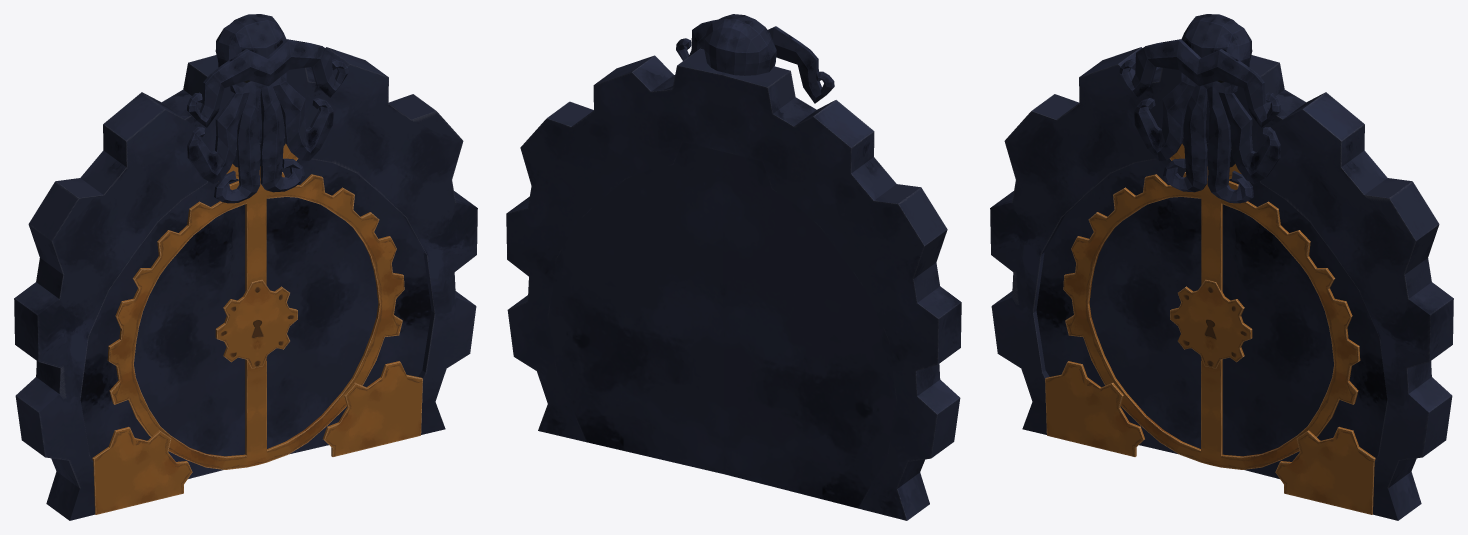
The model's file is Dungeon_Door_With_Textures.fbx.
3 views of the same model, side by side, from view 1: azimuth 30°, elevation 25°; view 2: azimuth 150°, elevation 25°; view 3: azimuth 330°, elevation 25° (orthographic).
Parts seen in each view (by area): view 1: Plane.001; view 2: Plane.001; view 3: Plane.001.
Boxes of the visible parts, x1=… form: Plane.001: x1=14, y1=14, x2=477, y2=520; Plane.001: x1=506, y1=14, x2=961, y2=520; Plane.001: x1=990, y1=14, x2=1453, y2=520.
Size of the model in its own units: 831 by 819 by 120.
Materials: 3 (3 with a texture image).
